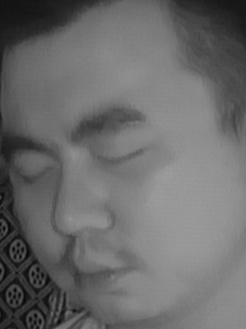blink: (92, 142, 148, 175), (13, 157, 57, 187)
mouth: (61, 248, 131, 296)
